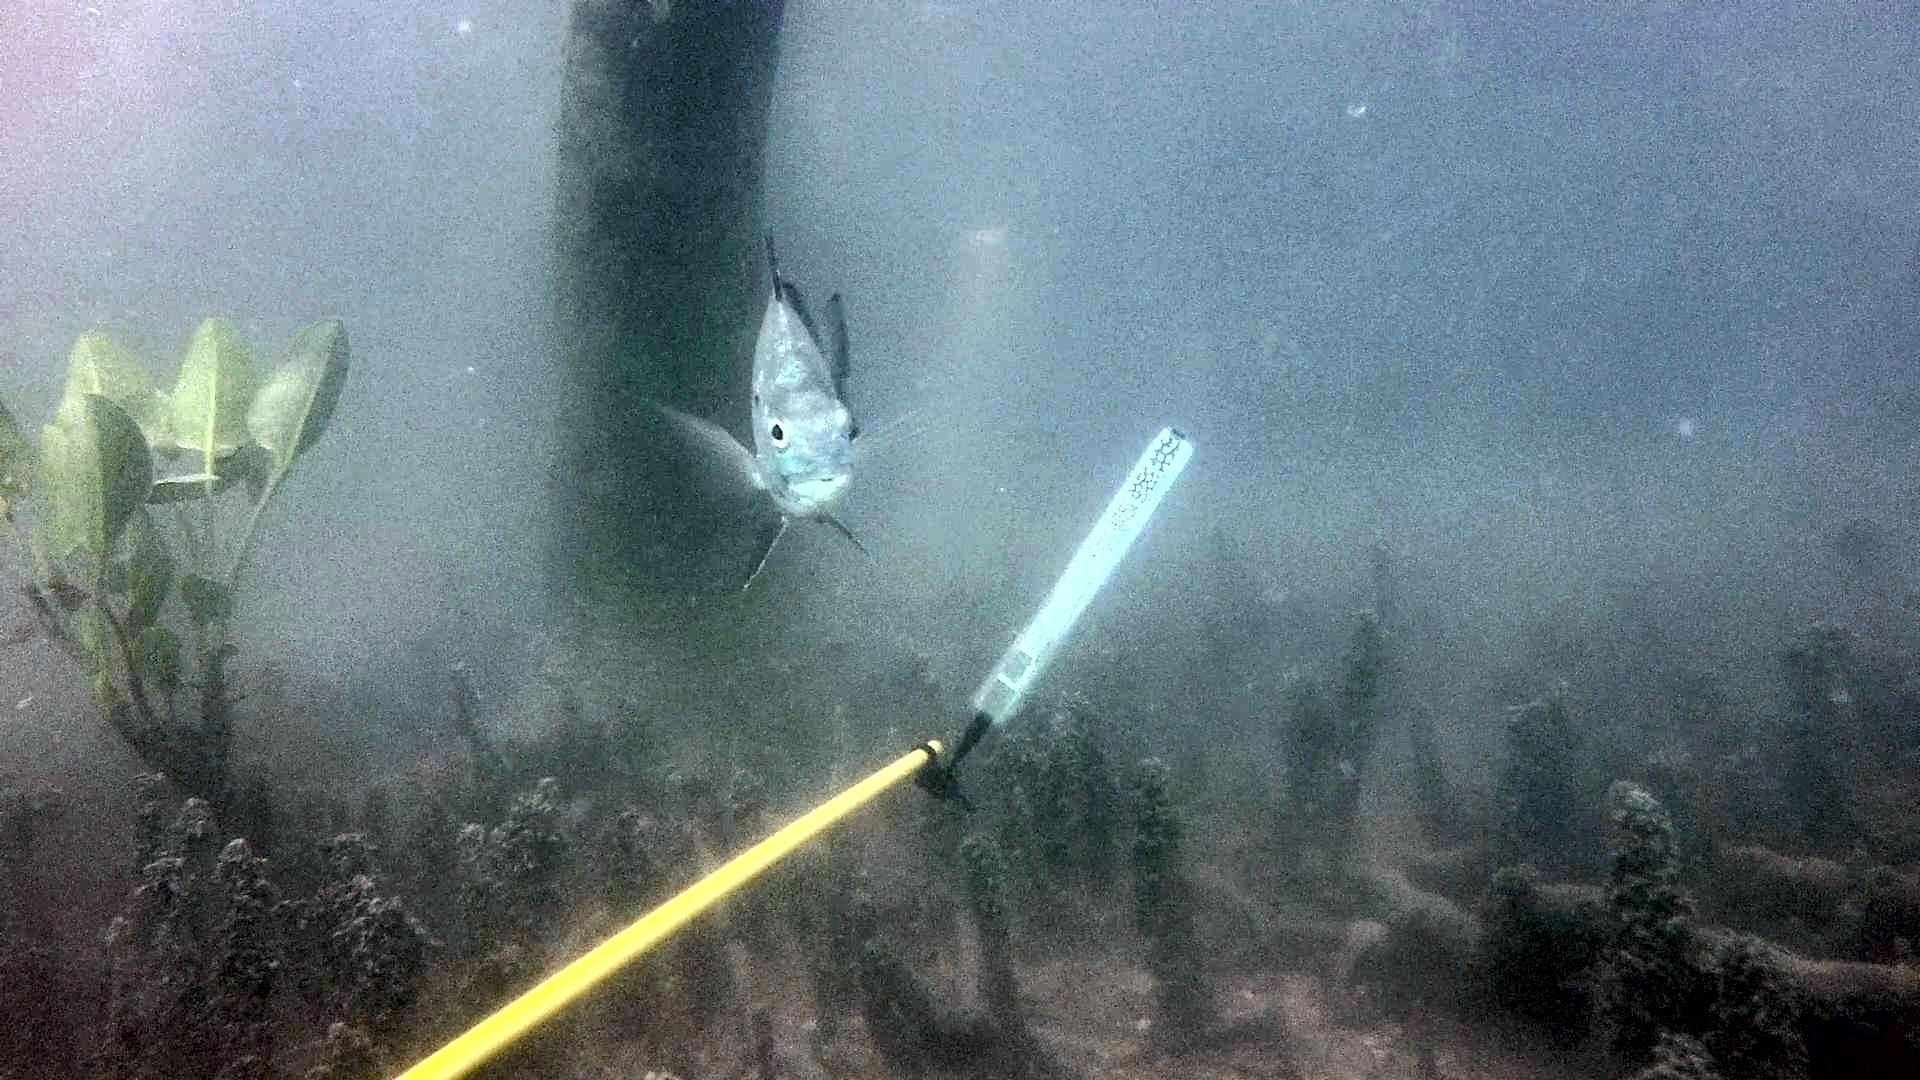acanthopagrus palmaris: (628, 225, 899, 600)
